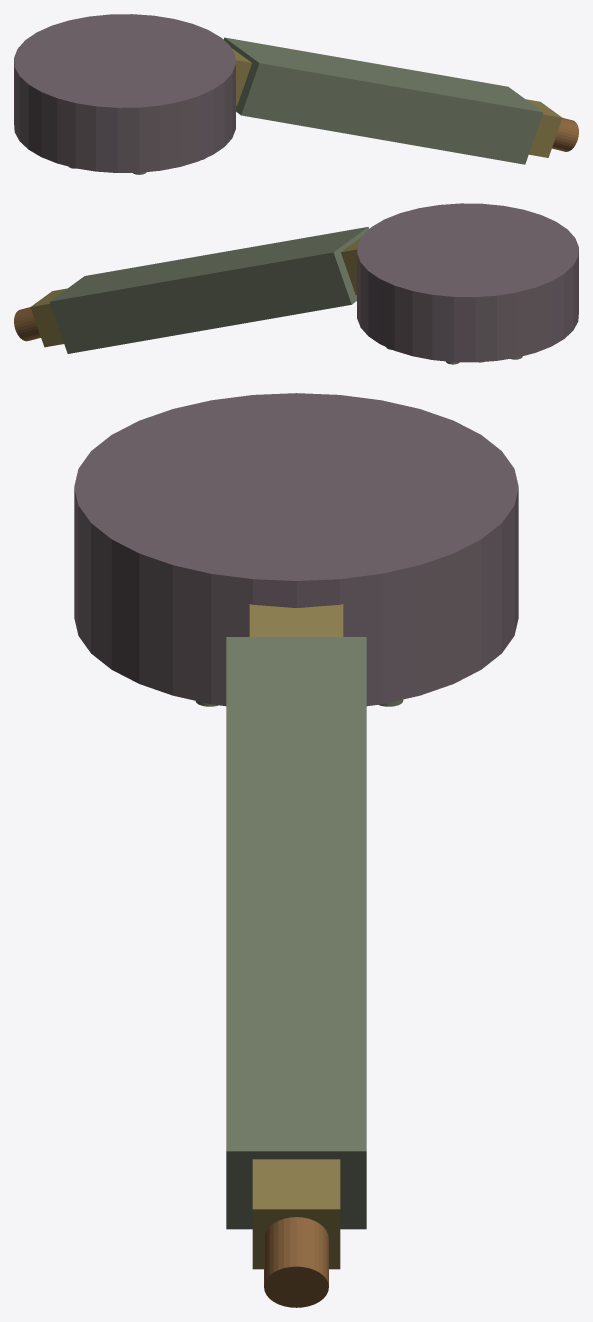
File: douche-merged.glb
3 renders of one model, top to bottom at view 1: azimuth 30°, elevation 25°; view 2: azimuth 150°, elevation 25°; view 3: azimuth 270°, elevation 25°, orthographic. The views are drawn at different scales.
Visible parts, largest first — view 1: douche; view 2: douche; view 3: douche.
Boxes of the visible parts, x1,y1,x2,y2 form: douche: [14, 14, 578, 174]; douche: [14, 203, 578, 364]; douche: [74, 393, 518, 1307].
Bounding box in the file's own units: 1.05 × 0.3614 × 0.3702.
